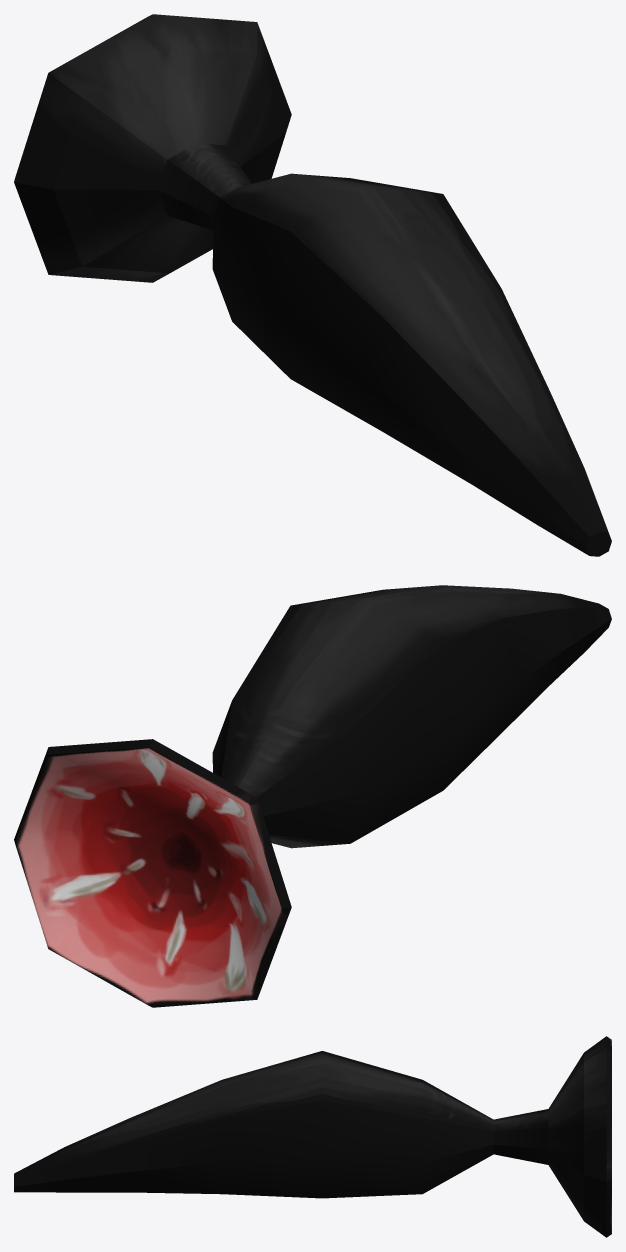
Rendered from leech.fbx.
The picture shows the model from 3 angles, top to bottom: view 1: azimuth 30°, elevation 25°; view 2: azimuth 150°, elevation 25°; view 3: azimuth 270°, elevation 25°; orthographic projection. The views are drawn at different scales.
Parts seen in each view (by area): view 1: pCube1; view 2: pCube1; view 3: pCube1.
Boxes of the visible parts, x1,y1,x2,y2 form: pCube1: (14,14,611,556); pCube1: (14,585,611,1007); pCube1: (14,1036,611,1237).
Size of the model in its own units: 7.98 by 7.38 by 22.42.
Materials: 1 (1 with a texture image).
